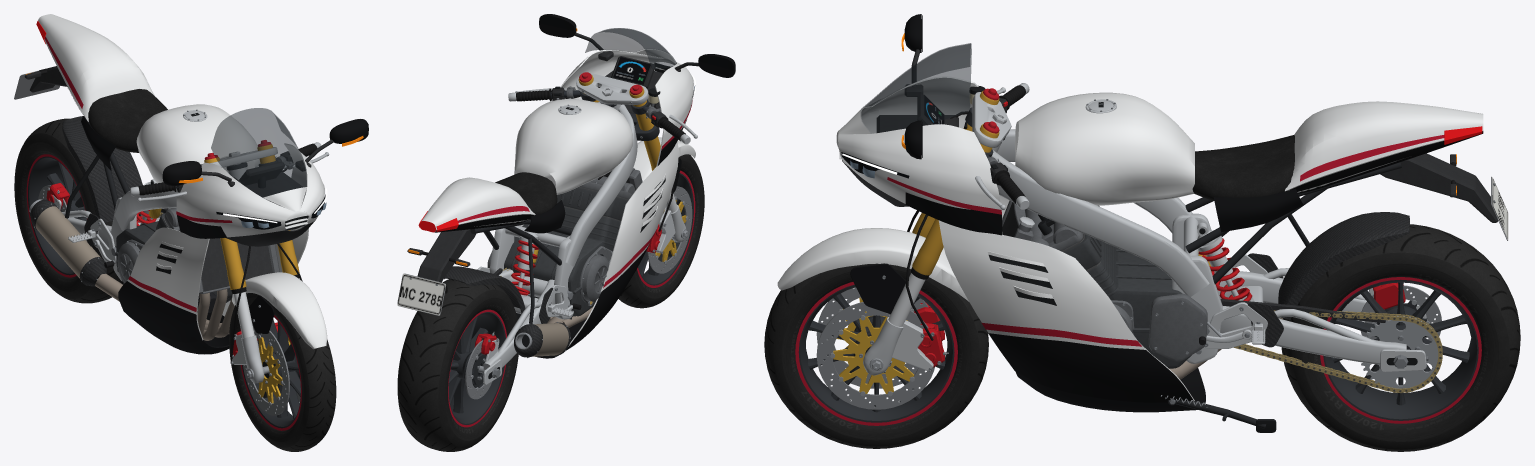
File: sport-motorcycle.glb
3 views of the same model, side by side, from view 1: azimuth 30°, elevation 25°; view 2: azimuth 150°, elevation 25°; view 3: azimuth 270°, elevation 25° (orthographic). The views are drawn at different scales.
Visible parts, largest first — view 1: Body, Wheel_Front, Fork, Wheel_Rear, Swingarm; view 2: Body, Wheel_Rear, Fork, Wheel_Front, Swingarm; view 3: Body, Wheel_Rear, Wheel_Front, Fork, Swingarm, Side_Stand.
Part boxes in pixels (x1,y1,x2,y2): Body: (14,14,368,354); Wheel_Front: (229,293,336,451); Fork: (130,140,329,383); Wheel_Rear: (14,118,140,303); Swingarm: (46,116,167,248); Body: (397,14,735,358); Wheel_Rear: (397,279,518,451); Fork: (508,72,697,254); Wheel_Front: (618,154,704,308); Swingarm: (443,266,554,385); Body: (836,14,1508,412); Wheel_Rear: (1281,224,1520,451); Wheel_Front: (764,263,988,448); Fork: (777,83,1029,375); Swingarm: (1214,212,1442,392); Side_Stand: (1161,395,1276,432).
Bounding box in the file's own units: 0.81 × 1.17 × 2.02.
51 materials, 11 textured.
